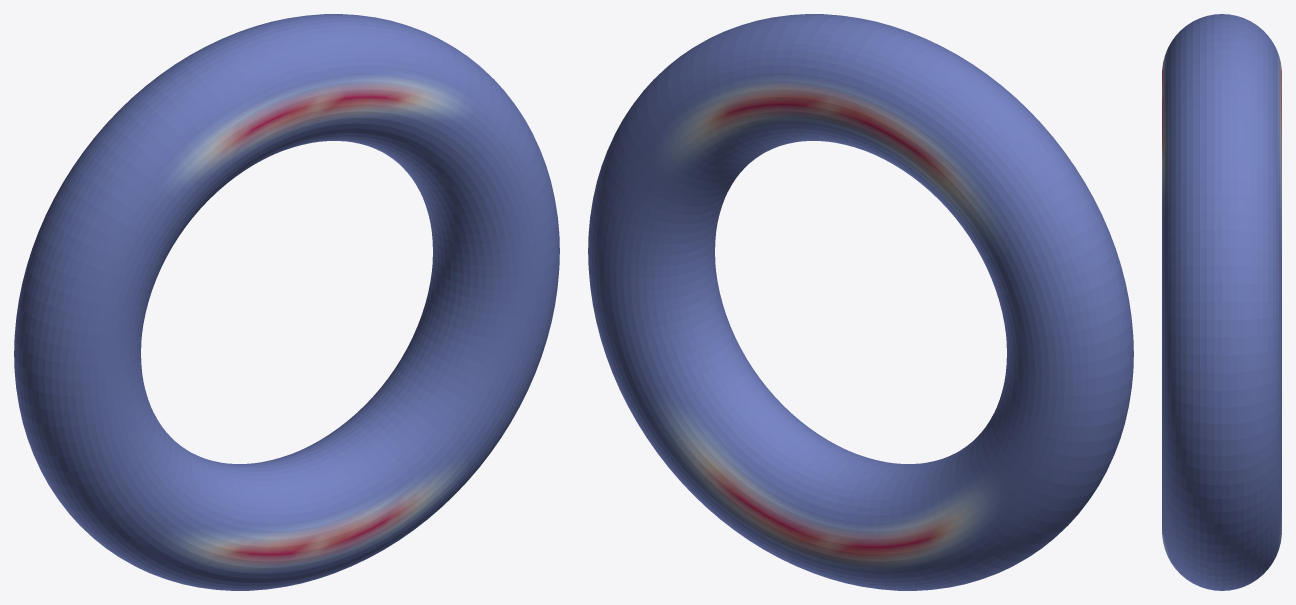
The picture shows the model from 3 angles, left to right: view 1: azimuth 30°, elevation 25°; view 2: azimuth 150°, elevation 25°; view 3: azimuth 270°, elevation 25°; orthographic projection. The views are drawn at different scales.
Visible parts, largest first — view 1: world; view 2: world; view 3: world.
Boxes of the visible parts, left/top/right/bottom form: world: left=14, top=14, right=559, bottom=590; world: left=588, top=14, right=1133, bottom=590; world: left=1162, top=14, right=1281, bottom=590.
Size of the model in its own units: 13.47 by 13.47 by 2.79.
